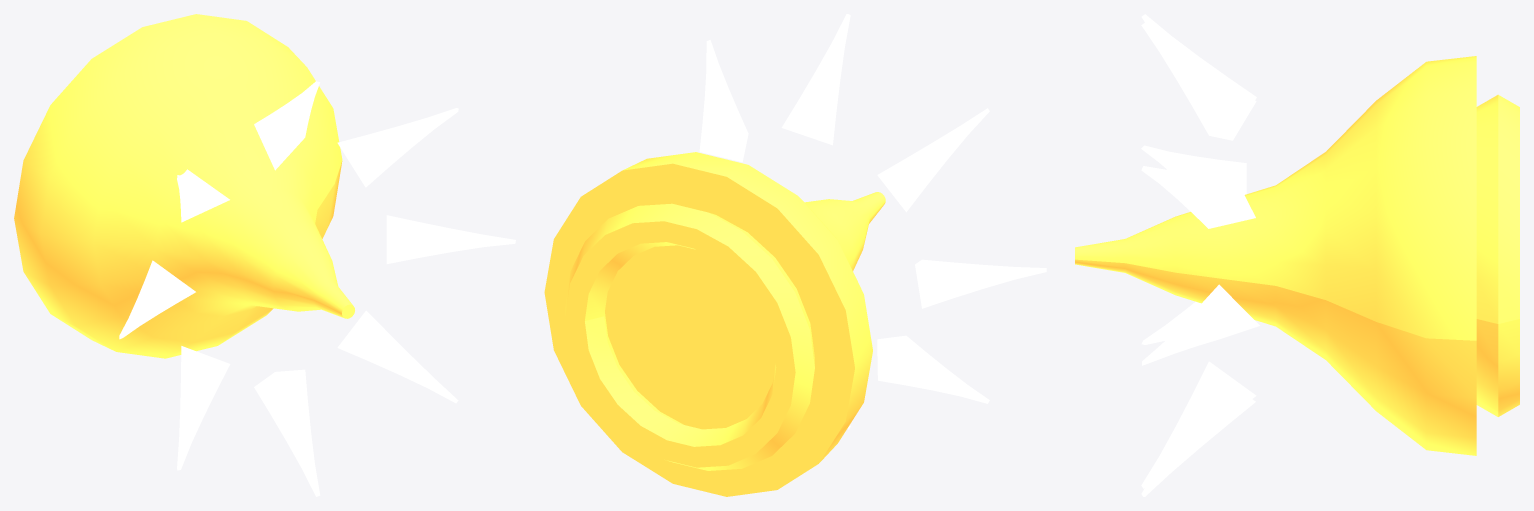
The model's file is vfx-mesh-library-muzzle-cone-flash-b9717922__21911.glb.
The picture shows the model from 3 angles, left to right: view 1: azimuth 30°, elevation 25°; view 2: azimuth 150°, elevation 25°; view 3: azimuth 270°, elevation 25°; orthographic projection. The views are drawn at different scales.
Visible parts, largest first — view 1: muzzle-cone-flash; view 2: muzzle-cone-flash; view 3: muzzle-cone-flash.
Part boxes in pixels (<box>): muzzle-cone-flash: <box>14,14,515,496</box>; muzzle-cone-flash: <box>544,14,1046,496</box>; muzzle-cone-flash: <box>1075,14,1519,496</box>.
Size of the model in its own units: 0.7161 by 0.7167 by 0.6203.
